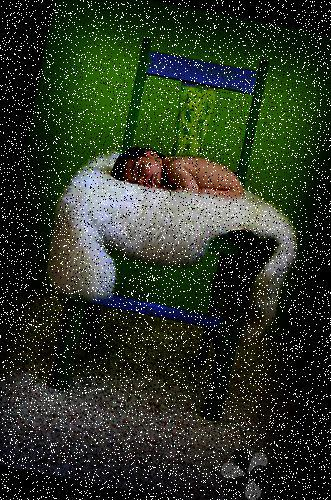Silla: (50, 34, 294, 419)
